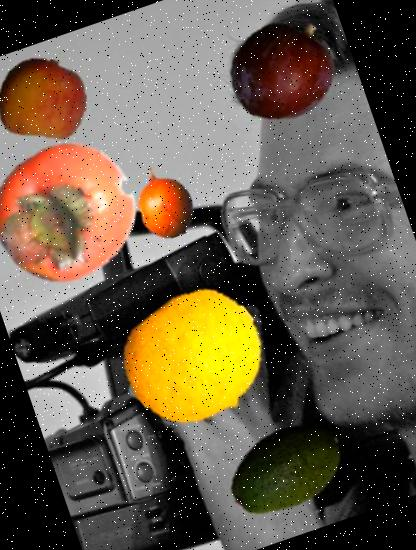Avocado: (208, 391, 362, 546)
Cantaloupe: (108, 270, 286, 448)
Granadilla: (118, 154, 212, 249)
Kaki: (0, 118, 159, 306)
Peach: (0, 41, 99, 154)
Plum: (215, 2, 352, 139)
